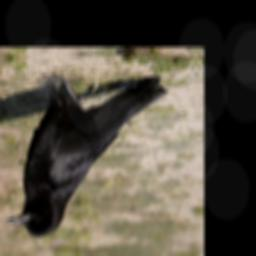Crow: (0, 66, 175, 241)
